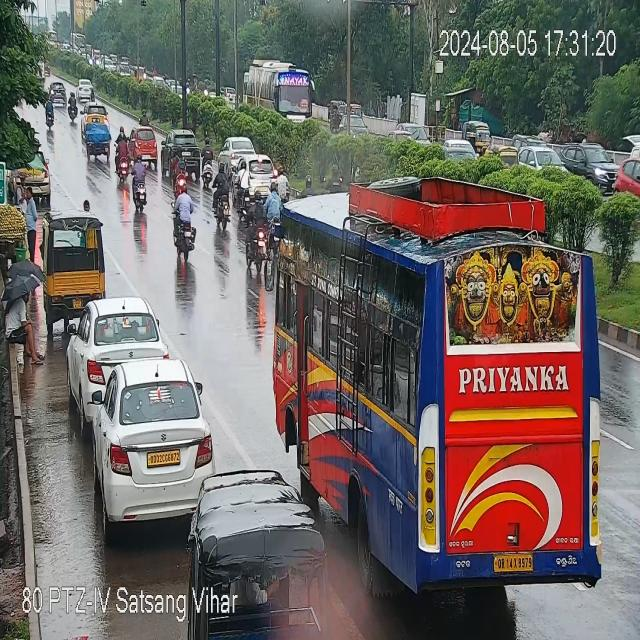2-wheelers: (172, 180, 202, 259), (241, 198, 266, 270), (127, 156, 152, 212), (213, 167, 234, 229), (108, 130, 131, 180), (236, 173, 251, 222), (266, 184, 285, 222), (202, 146, 218, 188), (66, 90, 81, 125), (44, 96, 54, 129), (137, 106, 152, 128)
auto: (190, 465, 319, 640), (48, 214, 108, 314), (83, 120, 113, 162), (83, 102, 112, 124), (476, 127, 495, 153)
bus: (273, 206, 612, 592), (247, 57, 314, 127), (71, 32, 86, 54)
car: (84, 357, 210, 530), (70, 298, 162, 396), (9, 146, 51, 200), (524, 144, 606, 170), (616, 140, 640, 207), (163, 129, 199, 173), (519, 147, 569, 172), (246, 154, 276, 192), (219, 135, 256, 162), (134, 126, 158, 162), (48, 82, 67, 106), (76, 80, 96, 101)
pedestrian: (7, 260, 44, 364), (23, 188, 41, 262)
